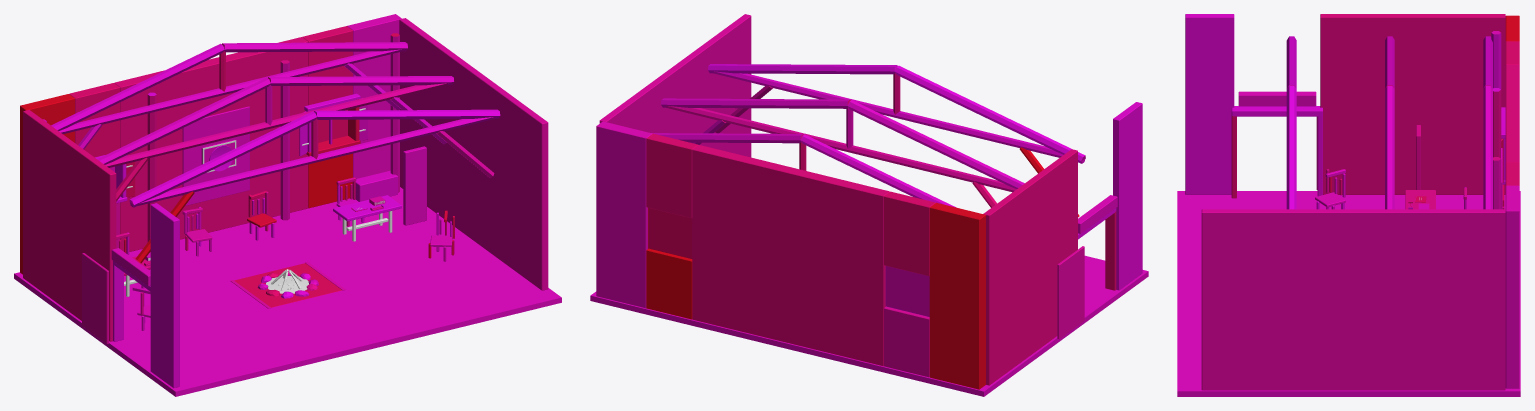
File: court_chapter_07.glb
3 renders of one model, left to right at view 1: azimuth 30°, elevation 25°; view 2: azimuth 150°, elevation 25°; view 3: azimuth 270°, elevation 25°, orthographic. The views are drawn at different scales.
Visible parts, largest first — view 1: Floor, WallRight, WallBackPier_1, WallLeftRear, WallLeftFront, Rafters_2, WallBackPier_end, Rafters_0, Rafters_1, HallHanging, TrussTie_2, TrussTie_1 (+22 smaller); view 2: WallBackPier_1, WallLeftRear, WallBackPier_0, WallBackPier_end, WallRight, Floor, WallLeftFront, Rafters_2, Rafters_1, WallBackHigh_1, WallBackHigh_0, WallBackLow_1 (+9 smaller); view 3: WallRight, WallLeftRear, Floor, WallLeftFront, WallBackPier_end, Rafters_2, Rafters_1, Rafters_0, WallBackPier_1, DoorLintel, EntranceHeader, Chair_officials_2 (+10 smaller).
Boxes of the visible parts, x1=… form: Floor: x1=14, y1=187, x2=561, y2=396; WallRight: x1=399, y1=18, x2=548, y2=290; WallBackPier_1: x1=114, y1=37, x2=308, y2=251; WallLeftRear: x1=23, y1=110, x2=116, y2=341; WallLeftFront: x1=150, y1=203, x2=179, y2=388; Rafters_2: x1=129, y1=109, x2=500, y2=207; WallBackPier_end: x1=347, y1=14, x2=401, y2=178; Rafters_0: x1=51, y1=42, x2=407, y2=130; Rafters_1: x1=97, y1=76, x2=453, y2=164; HallHanging: x1=182, y1=106, x2=249, y2=205; TrussTie_2: x1=130, y1=117, x2=494, y2=206; TrussTie_1: x1=105, y1=83, x2=448, y2=167; WallBackPier_1: x1=692, y1=145, x2=889, y2=366; WallLeftRear: x1=983, y1=149, x2=1077, y2=385; WallBackPier_0: x1=929, y1=202, x2=985, y2=389; WallBackPier_end: x1=596, y1=121, x2=652, y2=308; WallRight: x1=599, y1=14, x2=751, y2=157; Floor: x1=590, y1=255, x2=1148, y2=396; WallLeftFront: x1=1113, y1=102, x2=1142, y2=290; Rafters_2: x1=708, y1=64, x2=1085, y2=163; Rafters_1: x1=661, y1=98, x2=1024, y2=188; WallBackHigh_1: x1=646, y1=133, x2=697, y2=218; WallBackHigh_0: x1=884, y1=191, x2=935, y2=275; WallBackLow_1: x1=646, y1=248, x2=692, y2=319; WallRight: x1=1201, y1=209, x2=1505, y2=390; WallLeftRear: x1=1320, y1=14, x2=1505, y2=194; Floor: x1=1177, y1=191, x2=1520, y2=396; WallLeftFront: x1=1185, y1=14, x2=1234, y2=194; WallBackPier_end: x1=1505, y1=185, x2=1519, y2=388; Rafters_2: x1=1286, y1=36, x2=1296, y2=209; Rafters_1: x1=1385, y1=36, x2=1394, y2=209; Rafters_0: x1=1483, y1=36, x2=1492, y2=209; WallBackPier_1: x1=1505, y1=64, x2=1519, y2=162; DoorLintel: x1=1238, y1=91, x2=1316, y2=106; EntranceHeader: x1=1231, y1=106, x2=1322, y2=116; Chair_officials_2: x1=1315, y1=169, x2=1345, y2=209.
Bounding box in the file's own units: 11.7 × 5.7 × 8.4.
